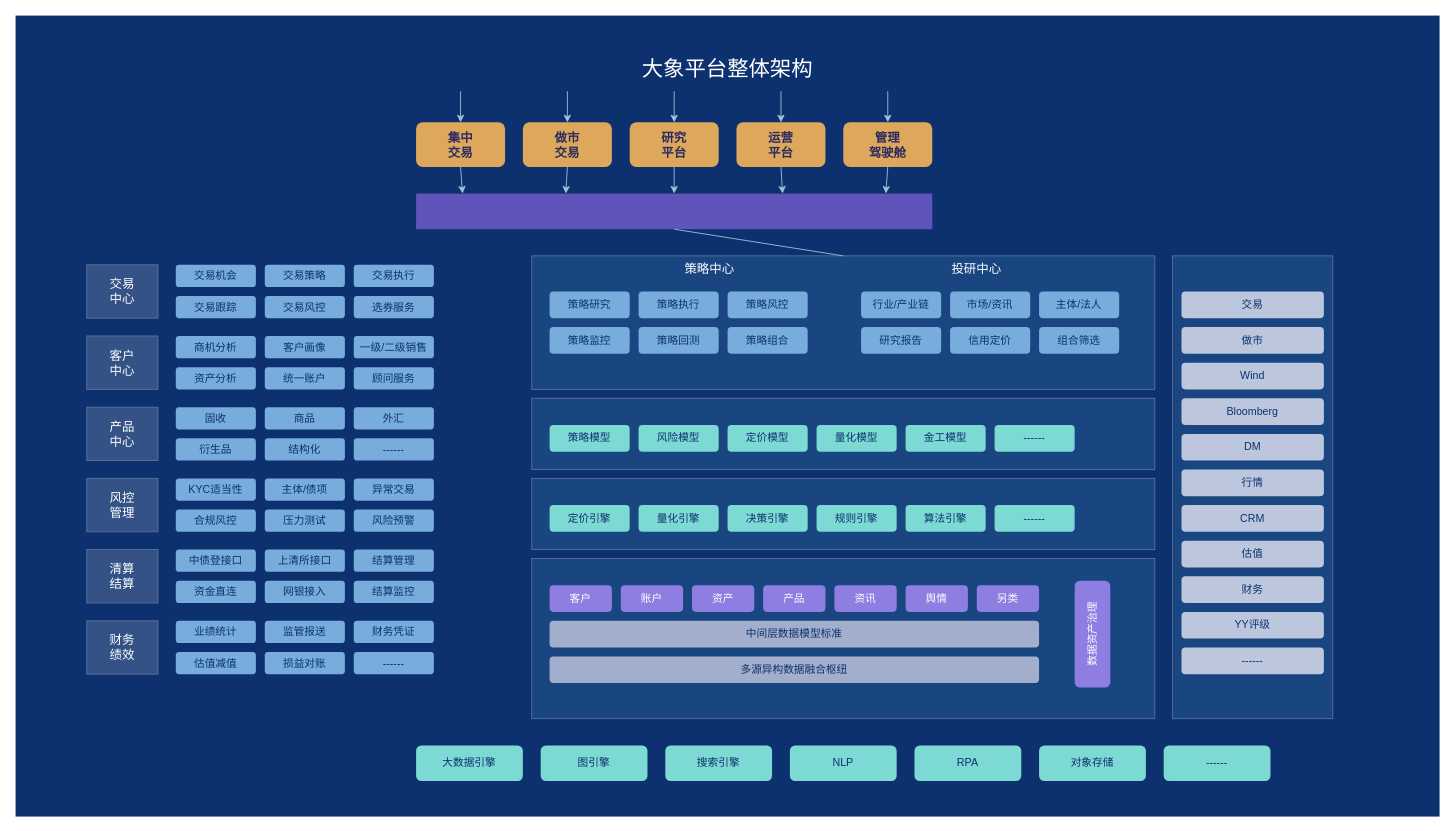
This 1454x831 diagram has some shape labels left out. Each missing label, with the box of its shape:
引擎服务: (531, 477, 1155, 550)
数据中台: (531, 558, 1155, 719)
数据支持: (1172, 255, 1333, 719)
模型服务: (531, 397, 1155, 469)
统一接入服务网关: (416, 193, 932, 229)
